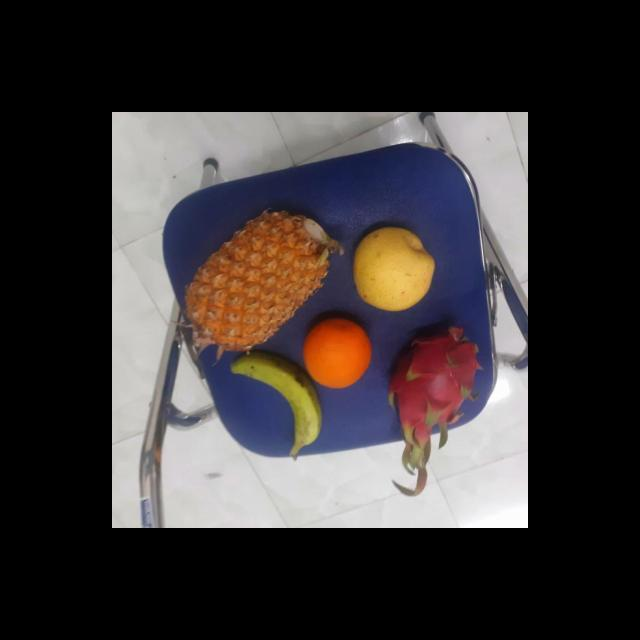orange: (300, 314, 374, 388)
pear: (346, 227, 436, 311)
pineapple: (182, 211, 336, 350)
pitaya: (384, 322, 477, 436)
